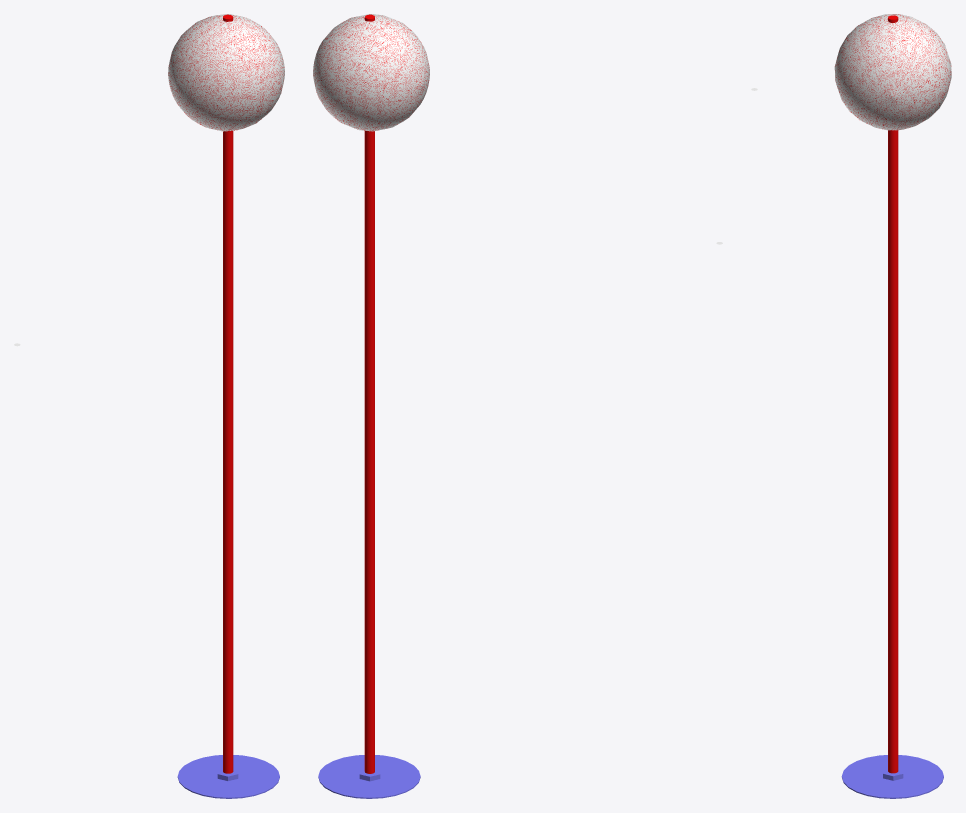
Rendered from red_Flower.dae.
3 renders of one model, left to right at view 1: azimuth 30°, elevation 25°; view 2: azimuth 150°, elevation 25°; view 3: azimuth 270°, elevation 25°, orthographic.
Visible parts, largest first — view 1: SketchUp_009, SketchUp_007, SketchUp_002; view 2: SketchUp_009, SketchUp_007, SketchUp_002; view 3: SketchUp_009, SketchUp_007, SketchUp_002.
Part boxes in pixels (x1=…): SketchUp_009: x1=168, y1=14, x2=284, y2=131; SketchUp_007: x1=223, y1=14, x2=233, y2=773; SketchUp_002: x1=177, y1=755, x2=279, y2=798; SketchUp_009: x1=313, y1=14, x2=429, y2=131; SketchUp_007: x1=364, y1=14, x2=374, y2=773; SketchUp_002: x1=318, y1=755, x2=420, y2=798; SketchUp_009: x1=834, y1=14, x2=951, y2=130; SketchUp_007: x1=888, y1=15, x2=898, y2=773; SketchUp_002: x1=841, y1=755, x2=943, y2=798.
Bounding box in the file's own units: 1.5 × 0.7845 × 3.28.
